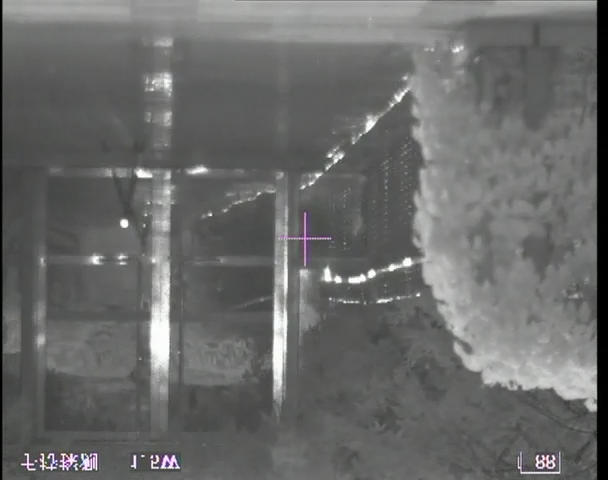my: (118, 219, 130, 229)
